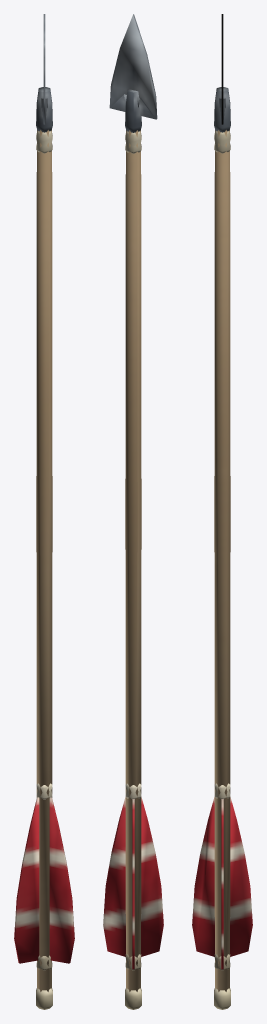
Rendered from Arrow.fbx.
3 renders of one model, left to right at view 1: azimuth 90°, elevation 25°; view 2: azimuth 150°, elevation 25°; view 3: azimuth 270°, elevation 25°, orthographic.
Parts seen in each view (by area): view 1: Arrow; view 2: Arrow; view 3: Arrow.
Part boxes in pixels (box(x1,y1,x2,y2)): Arrow: box(14, 14, 74, 1009); Arrow: box(103, 14, 163, 1009); Arrow: box(192, 14, 252, 1009).
Size of the model in its own units: 0.042 by 0.75 by 0.0416.
